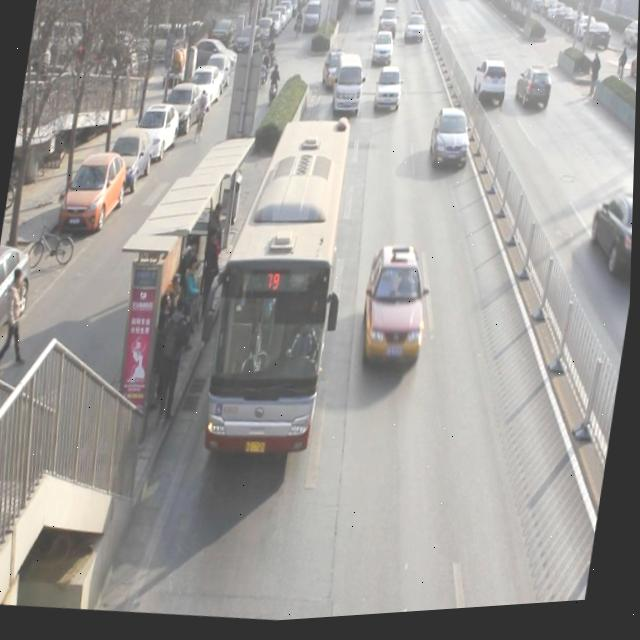car: (359, 249, 436, 382), (590, 194, 635, 289), (427, 108, 477, 179), (511, 68, 557, 126), (472, 62, 511, 119), (375, 70, 405, 117), (321, 50, 348, 99), (402, 13, 430, 54), (369, 37, 398, 74), (378, 12, 402, 44)
truck: (330, 52, 370, 124)
van: (198, 112, 358, 467), (354, 0, 377, 22)
